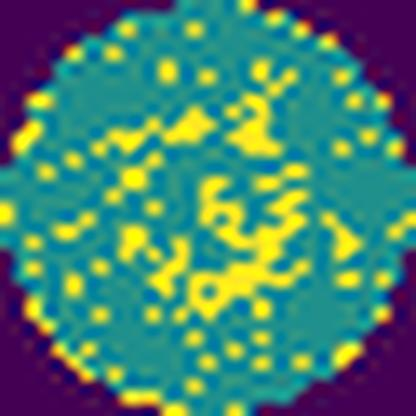Donut: (56, 79, 328, 346)
